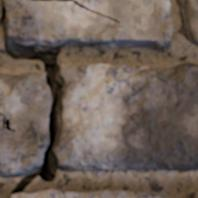brick: (4, 0, 172, 48), (10, 189, 160, 197), (177, 0, 197, 44), (191, 192, 197, 197)
broken_brick: (55, 62, 197, 172), (0, 71, 48, 177)
crack: (0, 2, 66, 195), (28, 0, 121, 23)
